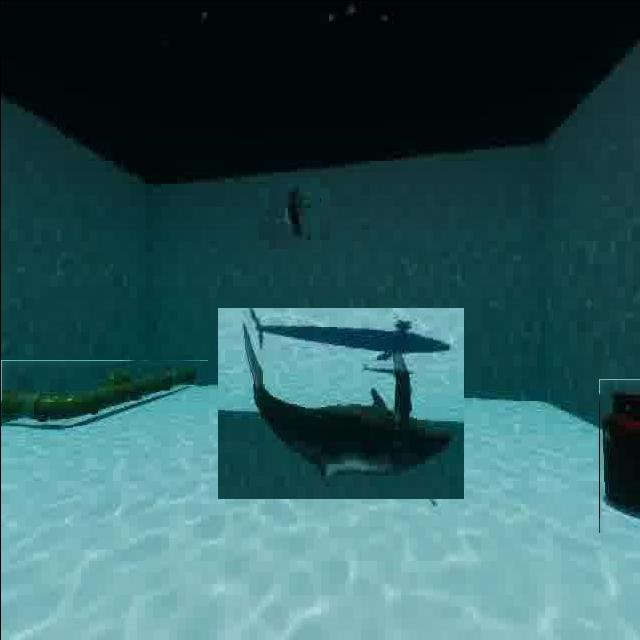Cylinder: (598, 378, 640, 532)
Pipe: (0, 359, 207, 425)
Whale: (217, 308, 463, 500), (263, 182, 324, 244)
